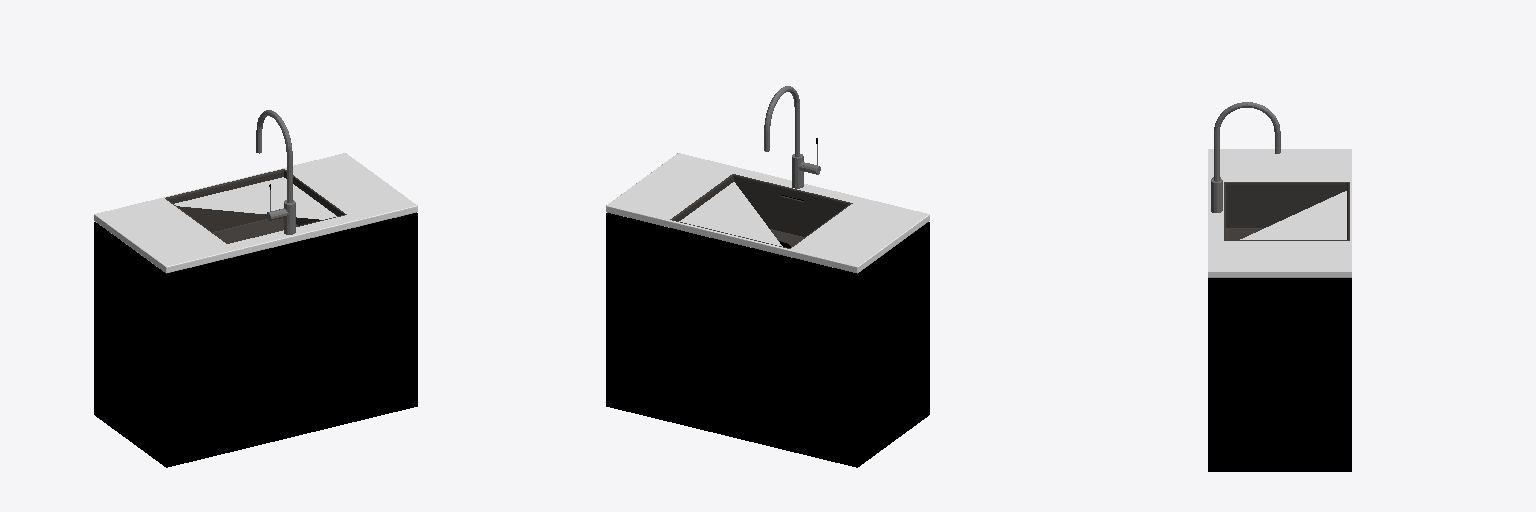
File: sink_01.obj
3 views of the same model, side by side, from view 1: azimuth 30°, elevation 25°; view 2: azimuth 150°, elevation 25°; view 3: azimuth 270°, elevation 25° (orthographic).
Visible parts, largest first — view 1: sink_01_Mesh.028; view 2: sink_01_Mesh.028; view 3: sink_01_Mesh.028.
Part boxes in pixels (x1,y1,x2,y2): sink_01_Mesh.028: (94, 110, 417, 467); sink_01_Mesh.028: (606, 86, 929, 467); sink_01_Mesh.028: (1208, 102, 1351, 471).
Size of the model in its own units: 0.9574 by 1.13 by 0.4767.